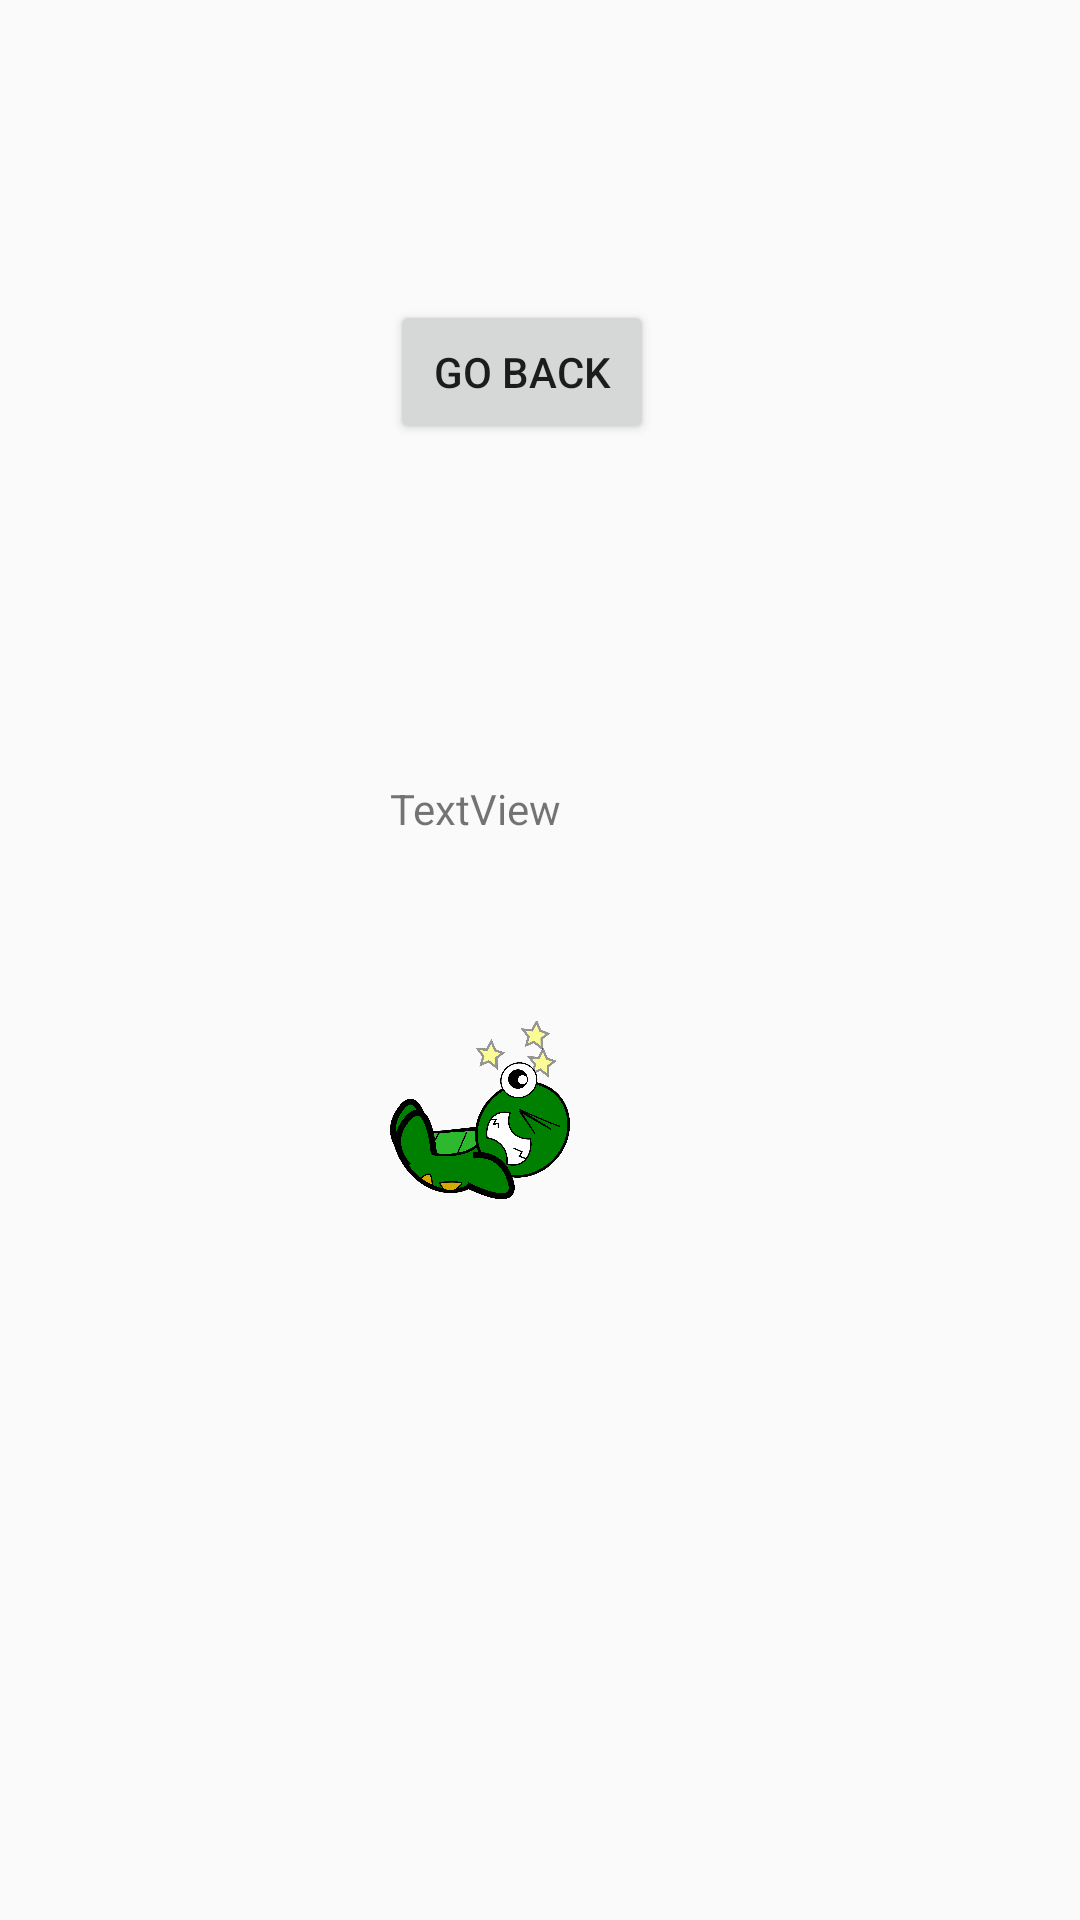

Point at icon controls on the screen. Image size 1080 × 1920, points as (x,y).
turtle wokeup: (480,1110)
